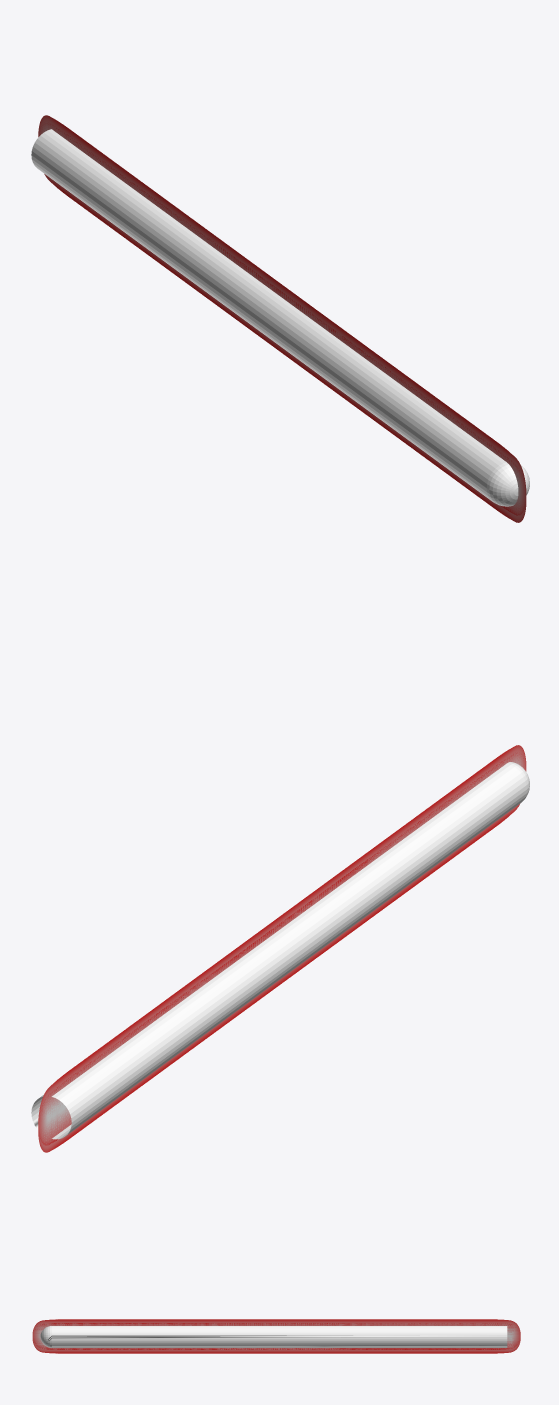
Rendered from schuss.obj.
3 renders of one model, top to bottom at view 1: azimuth 30°, elevation 25°; view 2: azimuth 150°, elevation 25°; view 3: azimuth 270°, elevation 25°, orthographic. The views are drawn at different scales.
Parts seen in each view (by area): view 1: playerLaser_Plane; view 2: playerLaser_Plane; view 3: playerLaser_Plane.
Part boxes in pixels (x1,y1,x2,y2): playerLaser_Plane: [31, 115, 529, 522]; playerLaser_Plane: [31, 745, 529, 1152]; playerLaser_Plane: [32, 1319, 520, 1353].
Bounding box in the file's own units: 0.0877 × 0.45 × 2.
1 material, 1 textured.
